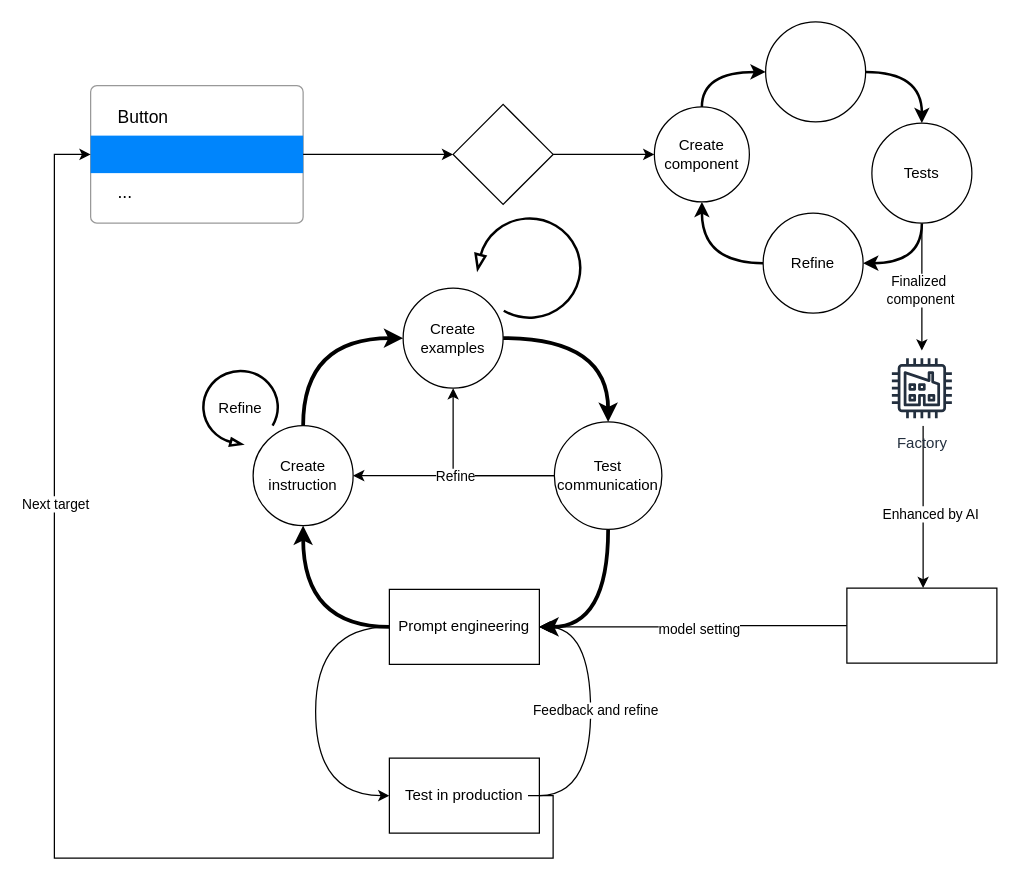
This 1019x890 diagram has some shape labels left out. Each missing label, with the centre of its shape:
"Define interface" goes at point 815,71.
"Enhanced Component" goes at point 921,625.
"Execute and refine" goes at point 527,267.
"Input" goes at point 196,153.
"Pick target" goes at point 502,153.
